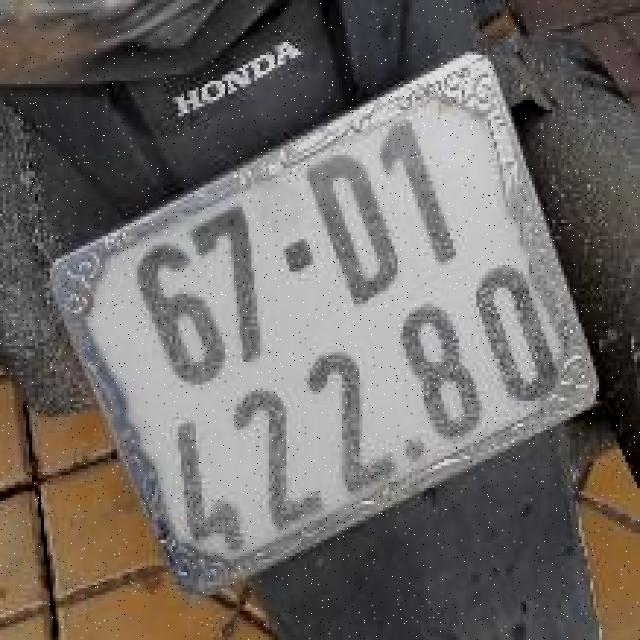0: (457, 241, 581, 422)
1: (371, 107, 486, 286)
2: (215, 366, 333, 541), (305, 343, 410, 517)
4: (148, 404, 256, 591)
6: (119, 234, 230, 396)
7: (181, 180, 293, 386)
8: (382, 299, 496, 462)
D: (281, 133, 425, 333)
